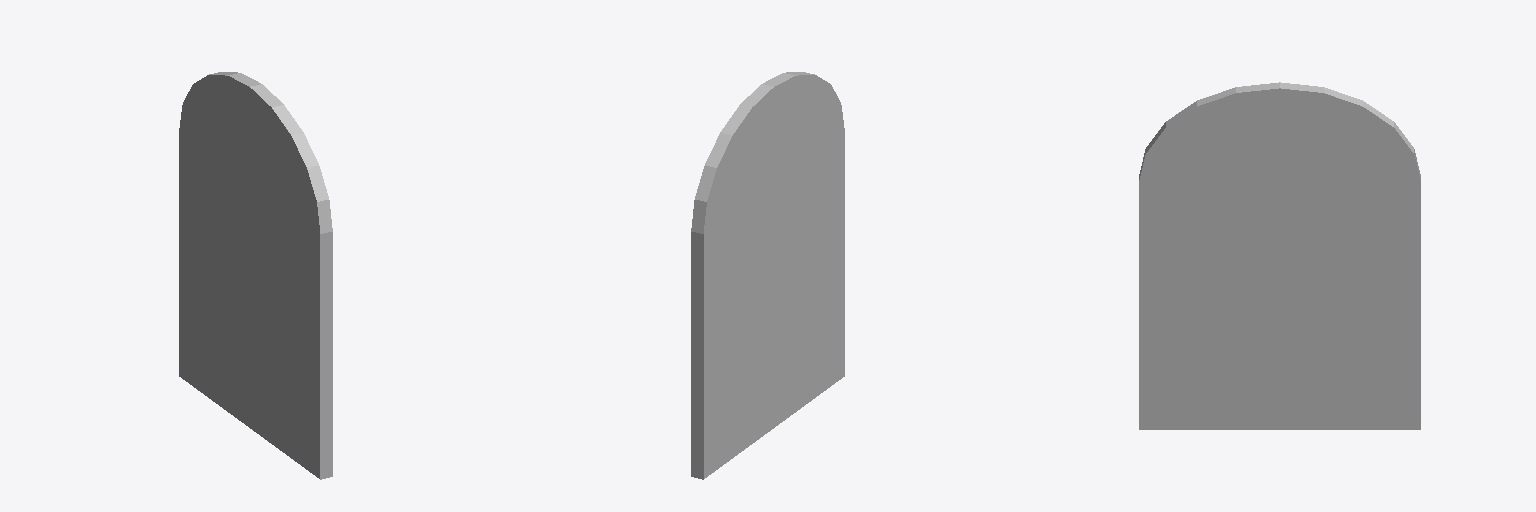
The model's file is puerta_redonda.obj.
The picture shows the model from 3 angles: view 1: azimuth 30°, elevation 25°; view 2: azimuth 150°, elevation 25°; view 3: azimuth 270°, elevation 25°; orthographic projection.
Parts seen in each view (by area): view 1: pasted__polySurface30 pasted__polySurface28 group1; view 2: pasted__polySurface30 pasted__polySurface28 group1; view 3: pasted__polySurface30 pasted__polySurface28 group1.
Boxes of the visible parts, x1=… form: pasted__polySurface30 pasted__polySurface28 group1: x1=179, y1=72, x2=332, y2=479; pasted__polySurface30 pasted__polySurface28 group1: x1=691, y1=72, x2=844, y2=479; pasted__polySurface30 pasted__polySurface28 group1: x1=1139, y1=82, x2=1420, y2=429.
Size of the model in its own units: 0.1352 by 3.56 by 2.68.